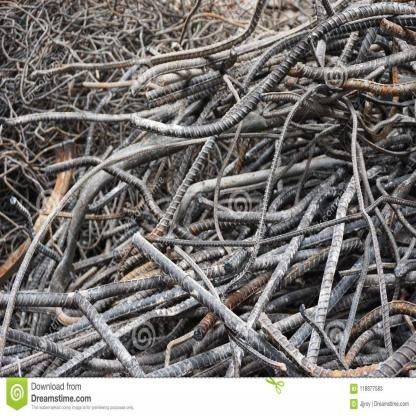rebar: (0, 1, 416, 378), (0, 135, 206, 364), (131, 1, 415, 138), (5, 0, 256, 117), (129, 228, 310, 378), (221, 79, 325, 301), (224, 186, 339, 377), (49, 134, 187, 289), (29, 1, 265, 83), (44, 156, 213, 252), (131, 13, 315, 97), (150, 194, 416, 248), (343, 92, 396, 356), (5, 284, 191, 354), (148, 304, 318, 378), (46, 298, 201, 377), (3, 121, 85, 265), (306, 172, 363, 362), (1, 263, 227, 308), (192, 279, 321, 354), (7, 328, 198, 375), (291, 245, 378, 348), (221, 123, 344, 195), (256, 310, 385, 378), (74, 61, 140, 190), (356, 141, 403, 308), (214, 165, 347, 223), (73, 290, 151, 378), (153, 134, 219, 234), (194, 268, 278, 339), (213, 72, 244, 253), (145, 54, 261, 101), (278, 235, 364, 294), (1, 331, 102, 377), (338, 230, 373, 360), (296, 47, 416, 82), (10, 196, 60, 266), (339, 327, 406, 366), (147, 76, 224, 109), (4, 111, 135, 127), (369, 331, 415, 375), (86, 180, 132, 216), (382, 17, 416, 47), (190, 356, 233, 378), (334, 30, 359, 67), (355, 27, 379, 63), (22, 356, 54, 377), (43, 357, 64, 377)
